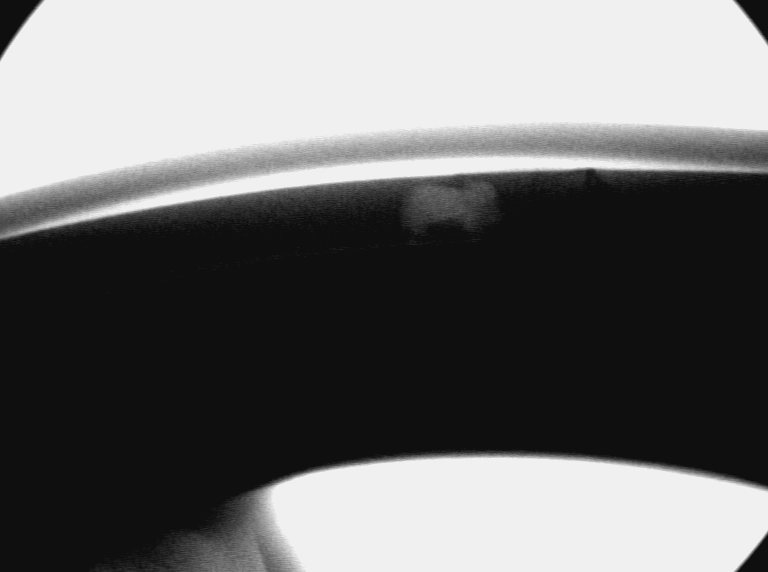defect: (401, 179, 509, 241)
